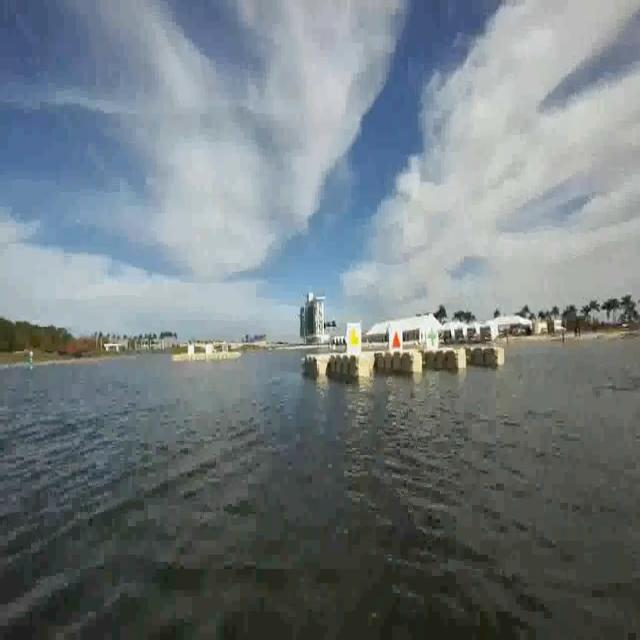blue-cross: (426, 318, 441, 352)
yellow-duck: (347, 326, 363, 360)
